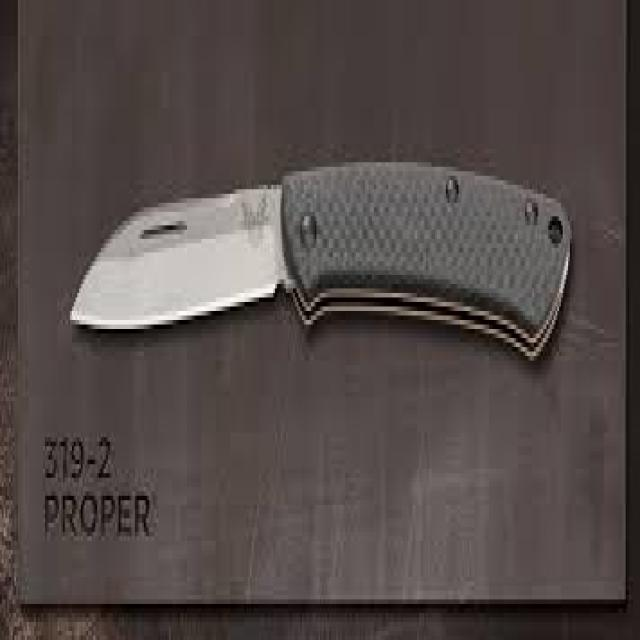knives: (62, 75, 598, 387)
